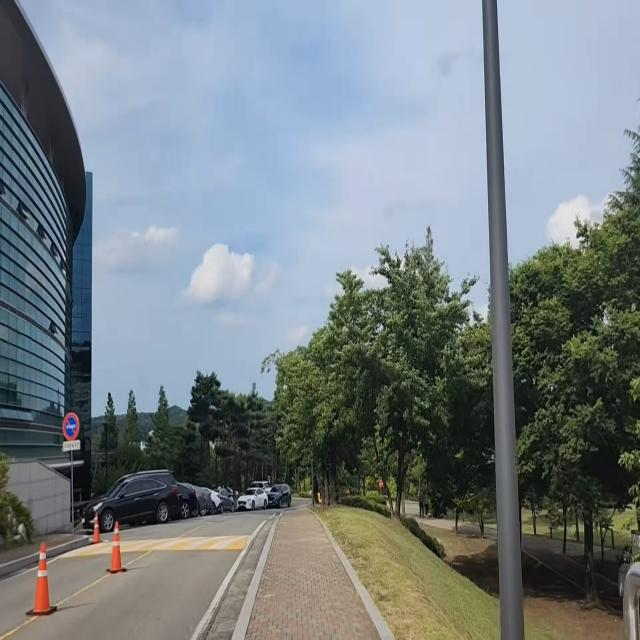obstacle: (483, 0, 525, 640), (85, 470, 295, 529), (79, 466, 181, 535), (24, 534, 62, 621), (62, 411, 83, 537), (104, 513, 130, 582)
road: (0, 510, 279, 640)
sidewalk: (230, 510, 392, 640), (0, 536, 83, 570)
